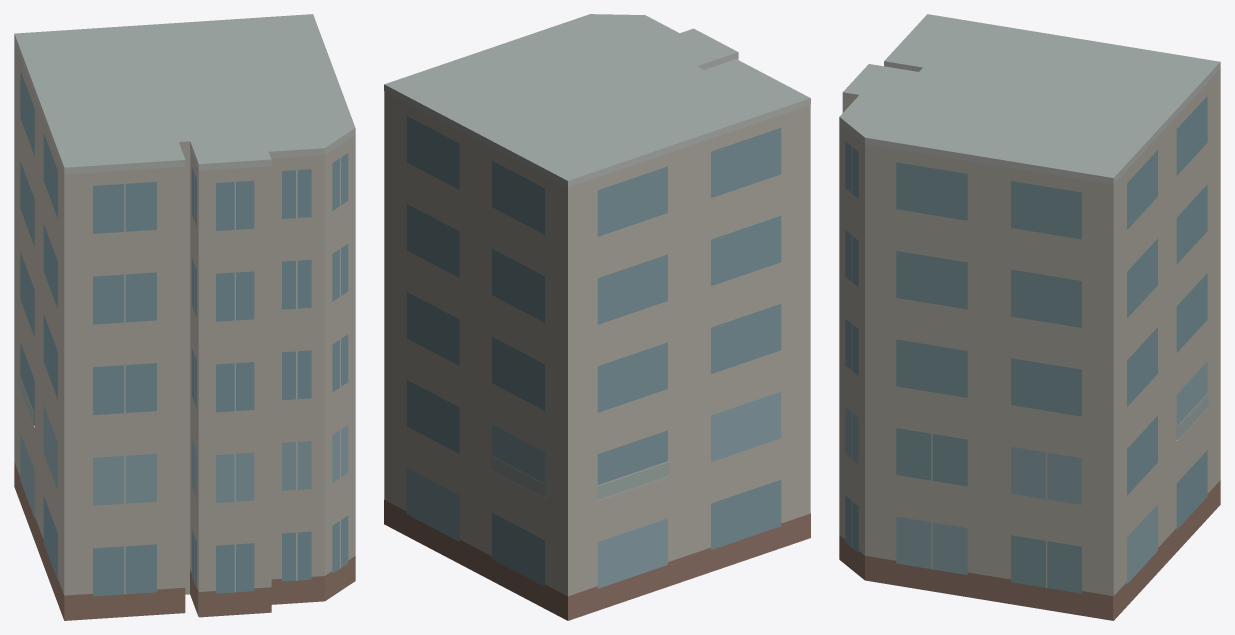
The model's file is survey-upis-32589324.glb.
3 renders of one model, left to right at view 1: azimuth 30°, elevation 25°; view 2: azimuth 150°, elevation 25°; view 3: azimuth 270°, elevation 25°, orthographic. The views are drawn at different scales.
Parts seen in each view (by area): view 1: survey-upis-32589324.tmp; view 2: survey-upis-32589324.tmp; view 3: survey-upis-32589324.tmp.
Part boxes in pixels (x1,y1,x2,y2): survey-upis-32589324.tmp: (14,14,355,620); survey-upis-32589324.tmp: (384,14,810,620); survey-upis-32589324.tmp: (839,14,1220,620).
Size of the model in its own units: 13.04 by 16.4 by 12.81.
